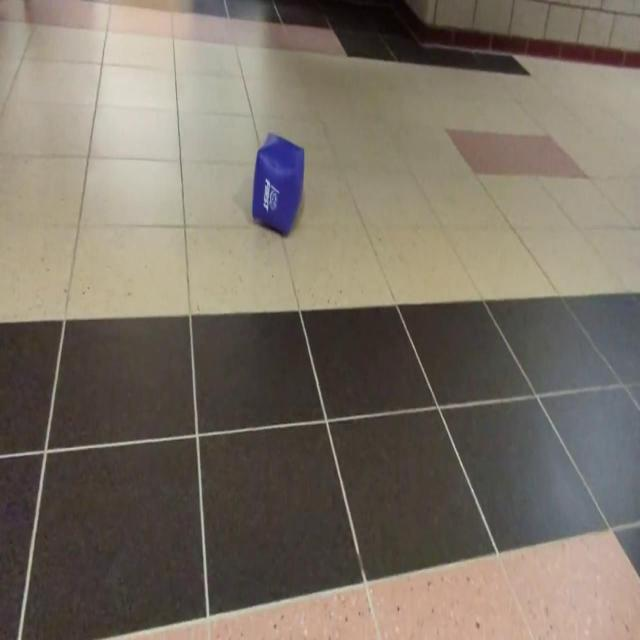frc_cube: (251, 132, 305, 235)
